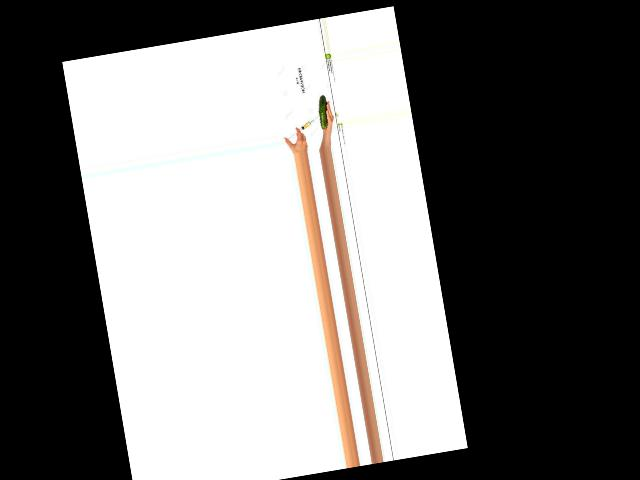cucumber: (316, 95, 331, 129)
